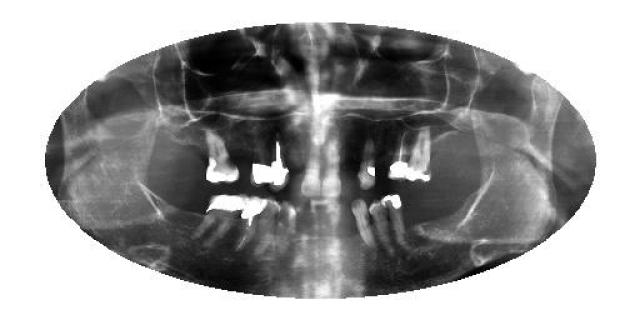Fillings: (195, 192, 240, 250), (205, 133, 241, 185), (236, 195, 265, 253), (382, 192, 408, 248), (357, 136, 378, 192), (249, 150, 271, 189)
Implant: (384, 131, 410, 179), (268, 138, 290, 194)
